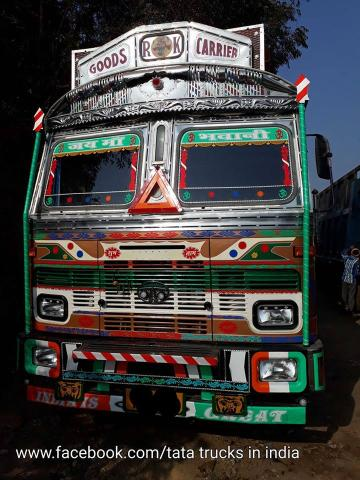truck: (8, 13, 333, 455)
